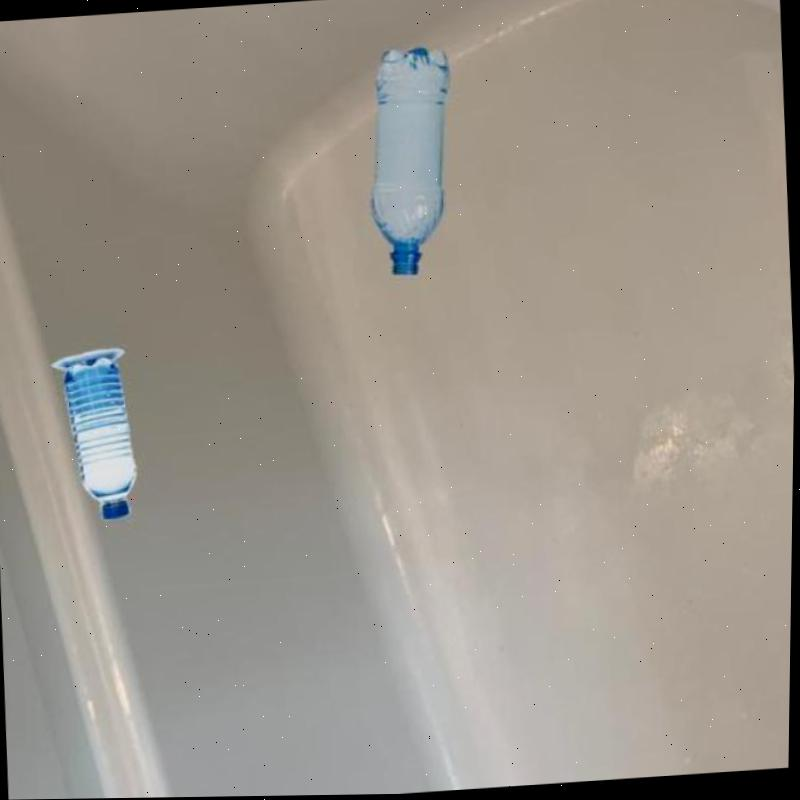botella: (363, 49, 459, 278), (63, 355, 142, 521)
